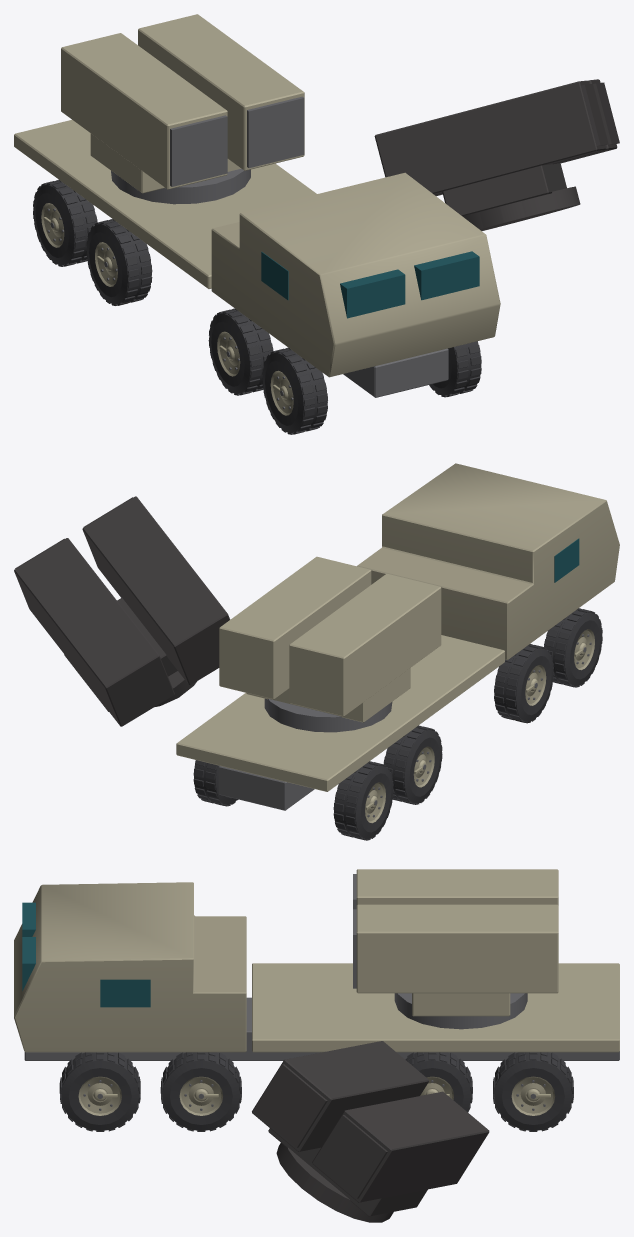
The model's file is mineLayer__isdm_zemledelie.glb.
3 views of the same model, one above another, from view 1: azimuth 30°, elevation 25°; view 2: azimuth 150°, elevation 25°; view 3: azimuth 270°, elevation 25° (orthographic). The views are drawn at different scales.
Parts seen in each view (by area): view 1: Hull_Mesh, Gun_Mesh, Wreck, Wheel_L3_Mesh, Wheel_L1_Mesh, Wheel_L2_Mesh, Wheel_L0_Mesh, Turret_Mesh, Wheel_R3_Mesh; view 2: Hull_Mesh, Wreck, Gun_Mesh, Wheel_L0_Mesh, Wheel_L2_Mesh, Turret_Mesh, Wheel_L1_Mesh, Wheel_L3_Mesh, Wheel_R0_Mesh; view 3: Hull_Mesh, Wreck, Gun_Mesh, Wheel_R3_Mesh, Wheel_R2_Mesh, Wheel_R0_Mesh, Turret_Mesh, Wheel_R1_Mesh.
Boxes of the visible parts, box(x1,y1,x2,y2) form: Hull_Mesh: box(14, 120, 500, 397); Gun_Mesh: box(61, 14, 304, 189); Wreck: box(53, 79, 619, 397); Wheel_L3_Mesh: box(262, 347, 327, 434); Wheel_L1_Mesh: box(86, 219, 152, 305); Wheel_L2_Mesh: box(208, 308, 273, 395); Wheel_L0_Mesh: box(33, 179, 97, 266); Turret_Mesh: box(90, 133, 250, 204); Wheel_R3_Mesh: box(429, 341, 481, 397); Hull_Mesh: box(176, 463, 619, 810); Wreck: box(14, 496, 574, 839); Gun_Mesh: box(219, 556, 441, 716); Wheel_L0_Mesh: box(333, 761, 393, 840); Wheel_L2_Mesh: box(494, 644, 553, 723); Turret_Mesh: box(246, 668, 410, 732); Wheel_L1_Mesh: box(383, 725, 442, 804); Wheel_L3_Mesh: box(544, 608, 602, 687); Wheel_R0_Mesh: box(193, 760, 238, 806); Hull_Mesh: box(14, 882, 619, 1060); Wreck: box(121, 1041, 557, 1222); Gun_Mesh: box(353, 869, 558, 993); Wheel_R3_Mesh: box(59, 1052, 140, 1131); Wheel_R2_Mesh: box(160, 1052, 241, 1131); Wheel_R0_Mesh: box(493, 1052, 573, 1131); Turret_Mesh: box(394, 993, 527, 1029); Wheel_R1_Mesh: box(405, 1052, 472, 1112).
Size of what is drawn, in the model's own units: 7.17 by 2.92 by 8.4.
